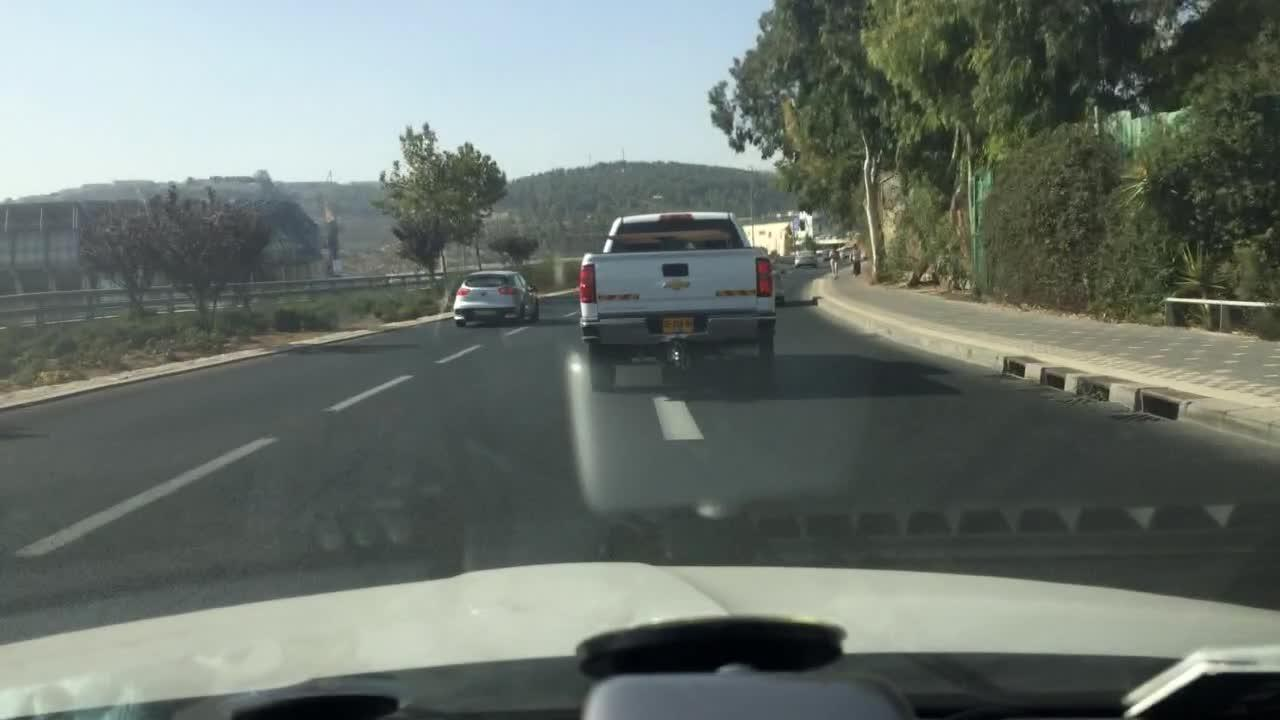chevrolet: (661, 276, 693, 299)
